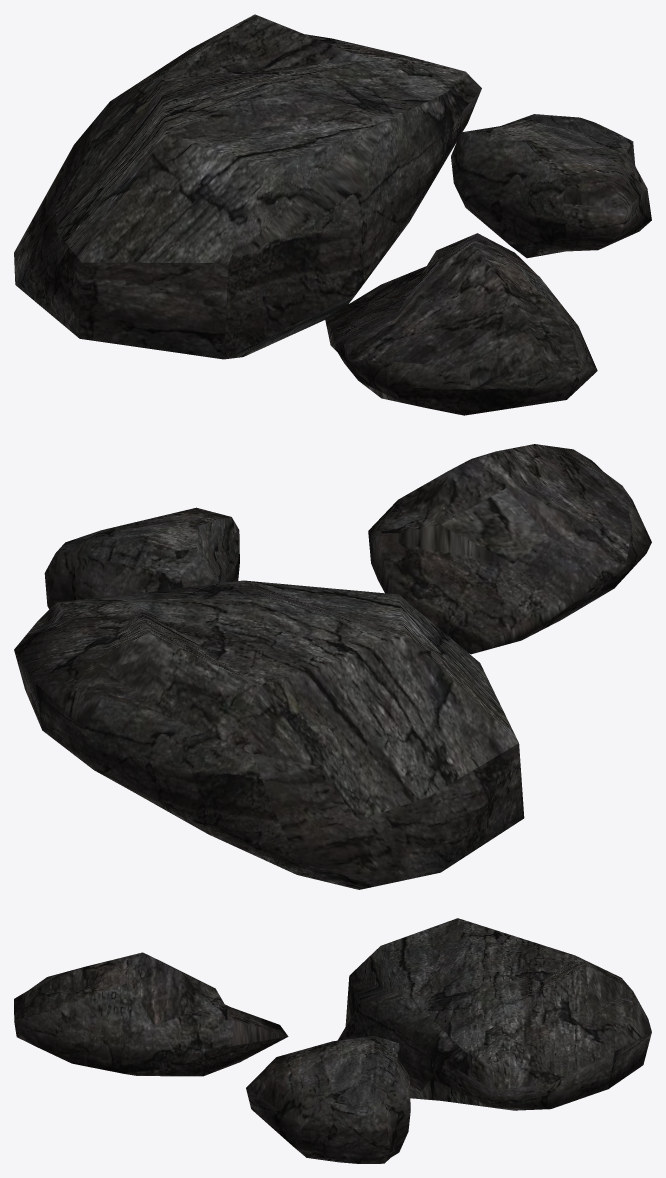
Rendered from Rocks 4.glb.
The picture shows the model from 3 angles, top to bottom: view 1: azimuth 30°, elevation 25°; view 2: azimuth 150°, elevation 25°; view 3: azimuth 270°, elevation 25°; orthographic projection. The views are drawn at different scales.
Visible parts, largest first — view 1: rocks_4_low; view 2: rocks_4_low; view 3: rocks_4_low.
Boxes of the visible parts, x1,y1,x2,y2 form: rocks_4_low: (14,14,651,415); rocks_4_low: (14,444,651,889); rocks_4_low: (14,918,651,1163).
Size of the model in its own units: 0.3085 by 0.1215 by 0.4215.
1 material, 1 textured.
